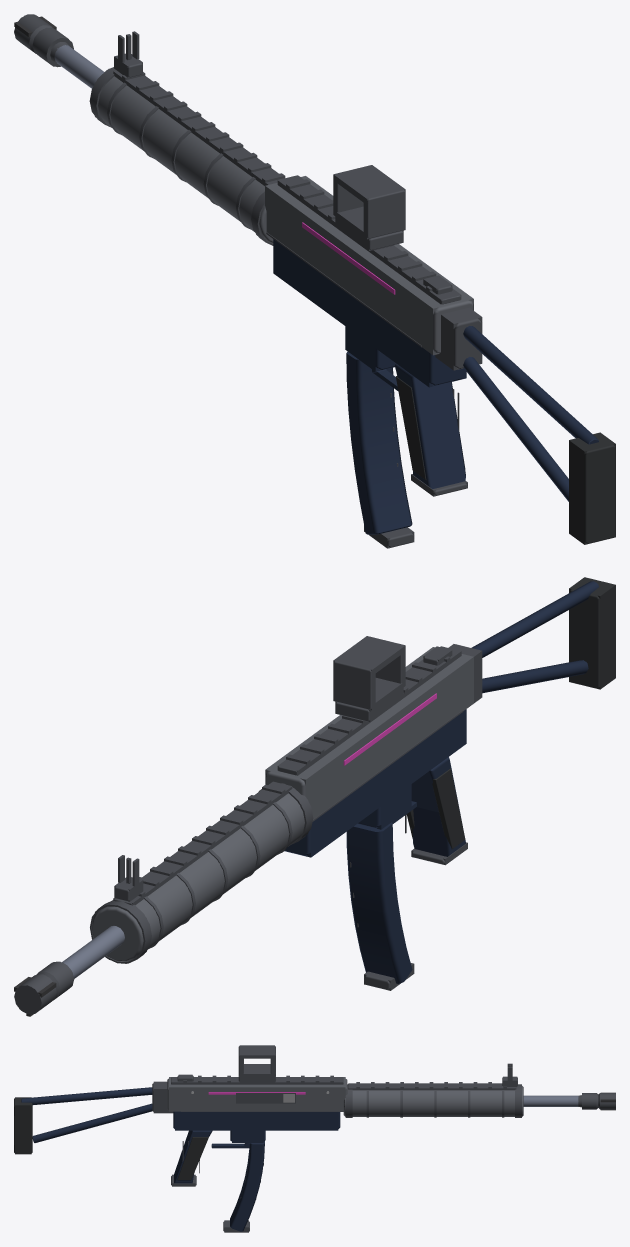
The model's file is b_scythe.glb.
3 renders of one model, top to bottom at view 1: azimuth 30°, elevation 25°; view 2: azimuth 150°, elevation 25°; view 3: azimuth 270°, elevation 25°, orthographic. The views are drawn at different scales.
Visible parts, largest first — view 1: L0, L1; view 2: L0, L1; view 3: L0, L1.
Boxes of the visible parts, box(x1,y1,x2,y2) form: L0: box(14, 14, 615, 547); L1: box(15, 15, 615, 548); L0: box(14, 578, 615, 1016); L1: box(14, 577, 615, 1014); L0: box(14, 1046, 615, 1231); L1: box(15, 1045, 615, 1232).
Size of the model in its own units: 0.0572 by 0.3355 by 1.02.
